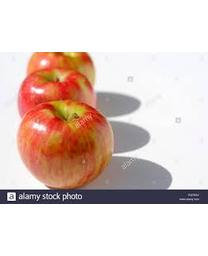apple: (15, 100, 113, 189), (16, 68, 96, 117), (25, 52, 95, 87)
